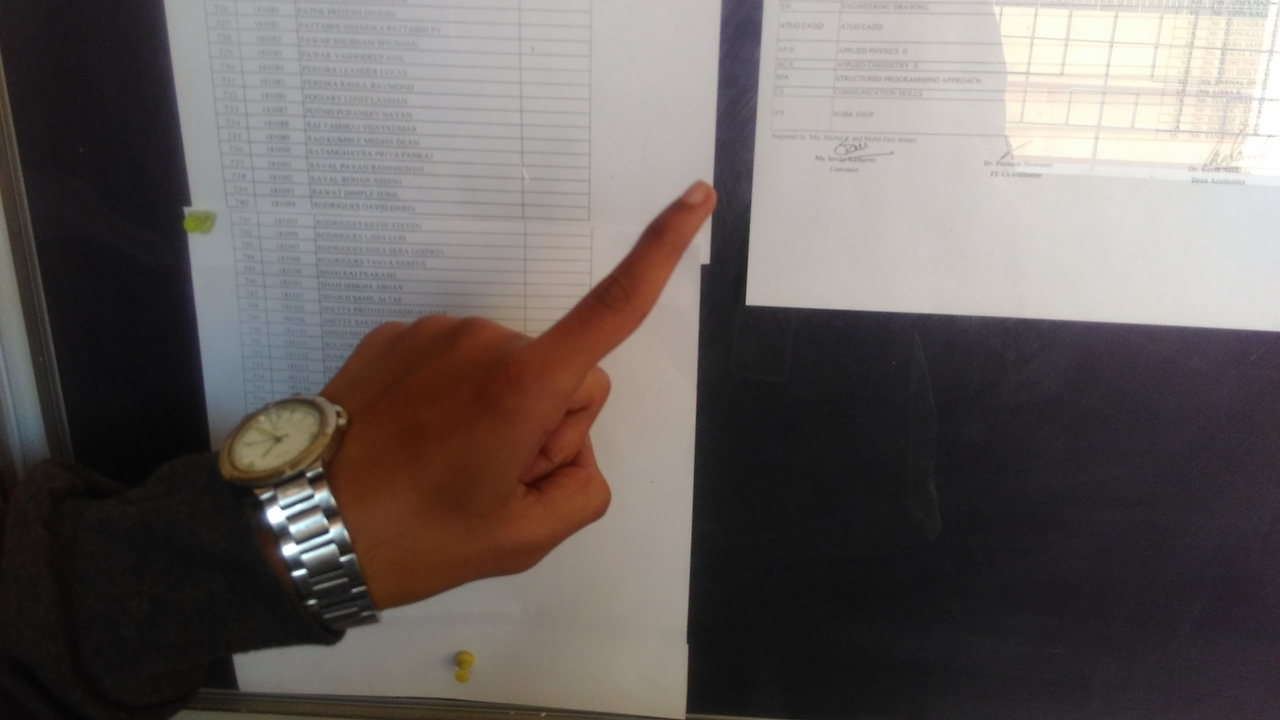fingertip: (662, 168, 718, 220)
